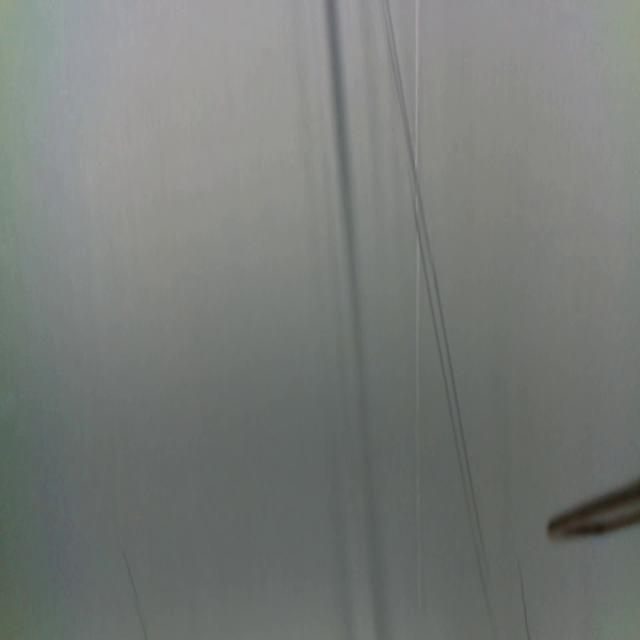crease: (381, 0, 493, 617), (412, 0, 420, 613), (122, 547, 147, 640), (516, 573, 531, 640)
